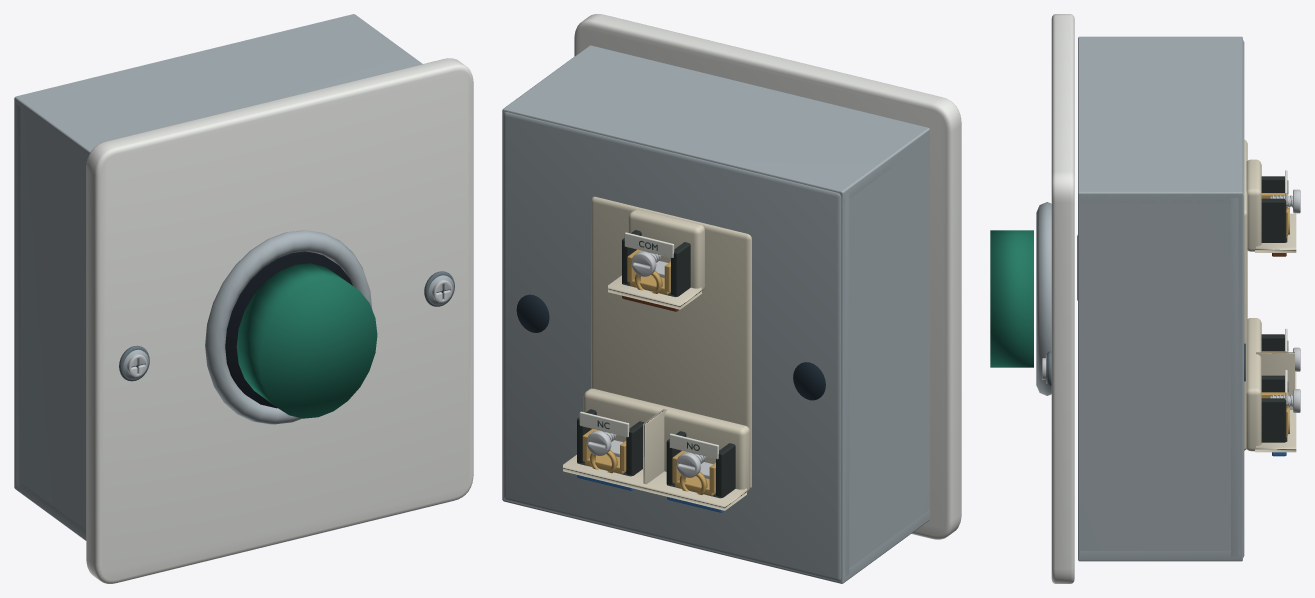
Rendered from pushbutton_start-button.glb.
3 views of the same model, side by side, from view 1: azimuth 30°, elevation 25°; view 2: azimuth 150°, elevation 25°; view 3: azimuth 270°, elevation 25° (orthographic). The views are drawn at different scales.
Visible parts, largest first — view 1: part:cover, part:body · Original 2a8198d3, motion:push-cap, part:actuator, detail:faceplate-fixing · Detail zinc plated fixing, part:cover · Original 0905ee26; view 2: part:body · Original 2a8198d3, part:terminals · Original 5a609f27, part:cover, part:body · Original a463fd81, detail:terminal-clamp:NO · Detail moulded engineering polyme, detail:terminal-clamp:COM · Detail moulded engineering polym, detail:terminal-clamp:NC · Detail moulded engineering polyme, detail:terminal-clamp:NC · Detail machined brass, detail:terminal-clamp:COM · Detail machined brass, detail:terminal-clamp:NO · Detail machined brass, Moulded terminal legend pad.002, Moulded terminal legend pad.001 (+4 smaller); view 3: part:body · Original 2a8198d3, part:cover, part:terminals · Original 5a609f27, motion:push-cap, part:actuator, detail:terminal-clamp:NC · Detail moulded engineering polyme, detail:terminal-clamp:COM · Detail moulded engineering polym, detail:terminal-clamp:NO · Detail moulded engineering polyme.
Boxes of the visible parts, left/top/right/bottom form: part:cover: left=86, top=58, right=473, bottom=583; part:body · Original 2a8198d3: left=14, top=14, right=422, bottom=540; motion:push-cap: left=236, top=263, right=377, bottom=418; part:actuator: left=205, top=230, right=372, bottom=424; detail:faceplate-fixing · Detail zinc plated fixing: left=127, top=279, right=452, bottom=377; part:cover · Original 0905ee26: left=119, top=271, right=454, bottom=381; part:body · Original 2a8198d3: left=502, top=45, right=929, bottom=583; part:terminals · Original 5a609f27: left=563, top=196, right=751, bottom=510; part:cover: left=574, top=14, right=961, bottom=539; part:body · Original a463fd81: left=516, top=294, right=825, bottom=400; detail:terminal-clamp:NO · Detail moulded engineering polyme: left=666, top=431, right=735, bottom=498; detail:terminal-clamp:COM · Detail moulded engineering polym: left=622, top=230, right=690, bottom=297; detail:terminal-clamp:NC · Detail moulded engineering polyme: left=577, top=409, right=644, bottom=476; detail:terminal-clamp:NC · Detail machined brass: left=582, top=429, right=626, bottom=473; detail:terminal-clamp:COM · Detail machined brass: left=627, top=249, right=670, bottom=294; detail:terminal-clamp:NO · Detail machined brass: left=672, top=450, right=715, bottom=495; Moulded terminal legend pad.002: left=579, top=411, right=629, bottom=437; Moulded terminal legend pad.001: left=669, top=433, right=718, bottom=459; part:body · Original 2a8198d3: left=1078, top=36, right=1244, bottom=561; part:cover: left=1051, top=14, right=1074, bottom=583; part:terminals · Original 5a609f27: left=1244, top=139, right=1296, bottom=452; motion:push-cap: left=990, top=230, right=1033, bottom=367; part:actuator: left=1036, top=202, right=1051, bottom=395; detail:terminal-clamp:NC · Detail moulded engineering polyme: left=1261, top=375, right=1287, bottom=442; detail:terminal-clamp:COM · Detail moulded engineering polym: left=1261, top=176, right=1287, bottom=242; detail:terminal-clamp:NO · Detail moulded engineering polyme: left=1261, top=334, right=1284, bottom=351.
Bounding box in the file's own units: 0.8918 × 0.9813 × 0.6726.
